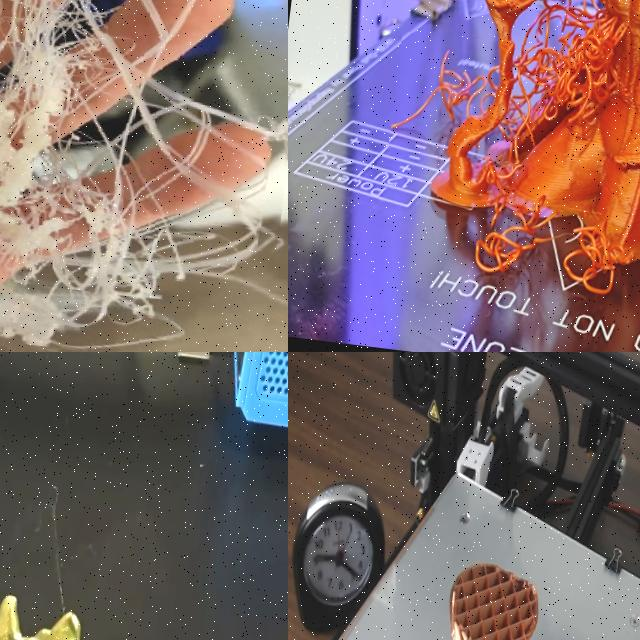spaghetti: (0, 0, 288, 352), (387, 0, 635, 177), (466, 163, 554, 294), (560, 213, 634, 314)
